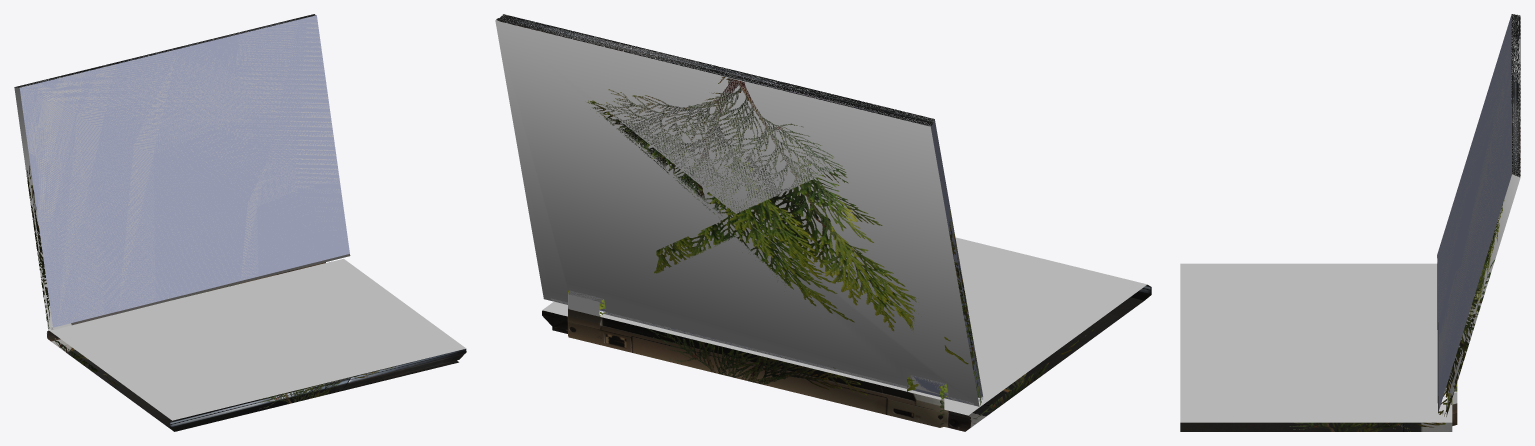
Rendered from LaptopOpen.obj.
3 renders of one model, left to right at view 1: azimuth 30°, elevation 25°; view 2: azimuth 150°, elevation 25°; view 3: azimuth 270°, elevation 25°, orthographic. The views are drawn at different scales.
Visible parts, largest first — view 1: Mesh1 Model; view 2: Mesh1 Model; view 3: Mesh1 Model.
Part boxes in pixels (x1,y1,x2,y2): Mesh1 Model: (14, 14, 466, 431); Mesh1 Model: (495, 14, 1151, 431); Mesh1 Model: (1180, 14, 1520, 431).
Bounding box in the file's own units: 2.98 × 2.24 × 2.64.
